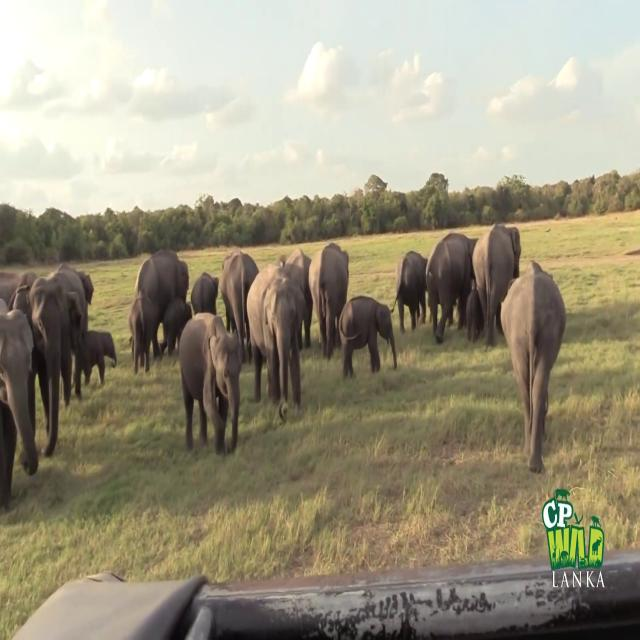Elephant: (500, 260, 566, 474), (178, 311, 242, 456), (471, 223, 521, 348), (134, 248, 189, 358), (426, 232, 478, 344), (338, 294, 397, 380), (308, 242, 349, 360), (219, 248, 259, 364), (391, 250, 428, 333), (128, 294, 160, 374), (191, 272, 219, 316)
